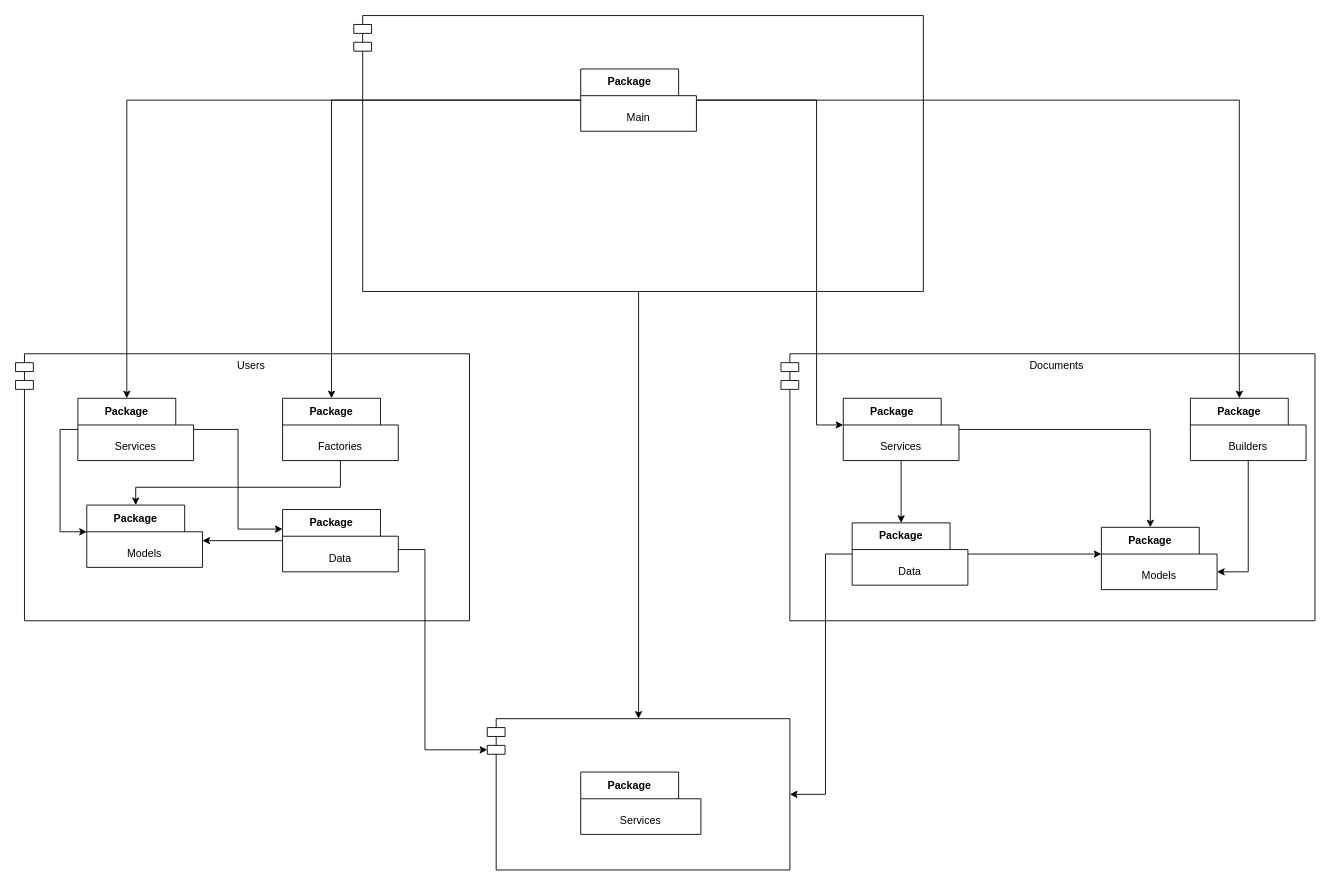
Some shapes in this 1331 by 886 pixel diagram are drawn without their labels. Here are the shapes that lost their labels. From the top down, the box of each, then its label:
(353, 15, 923, 291): SoftwareApp
(486, 718, 790, 870): DatabaseService
